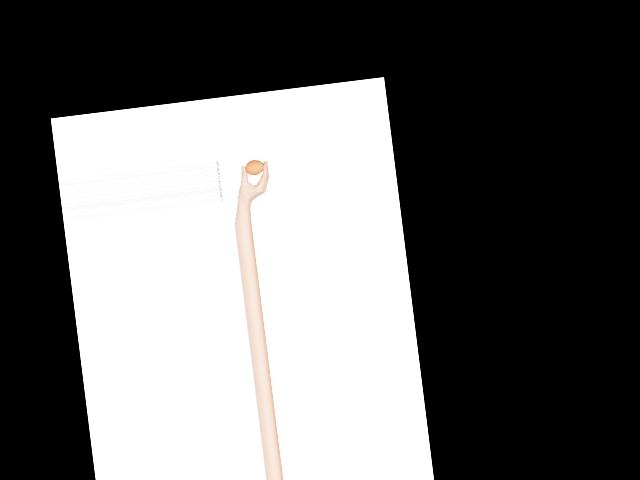egg: (243, 158, 265, 175)
